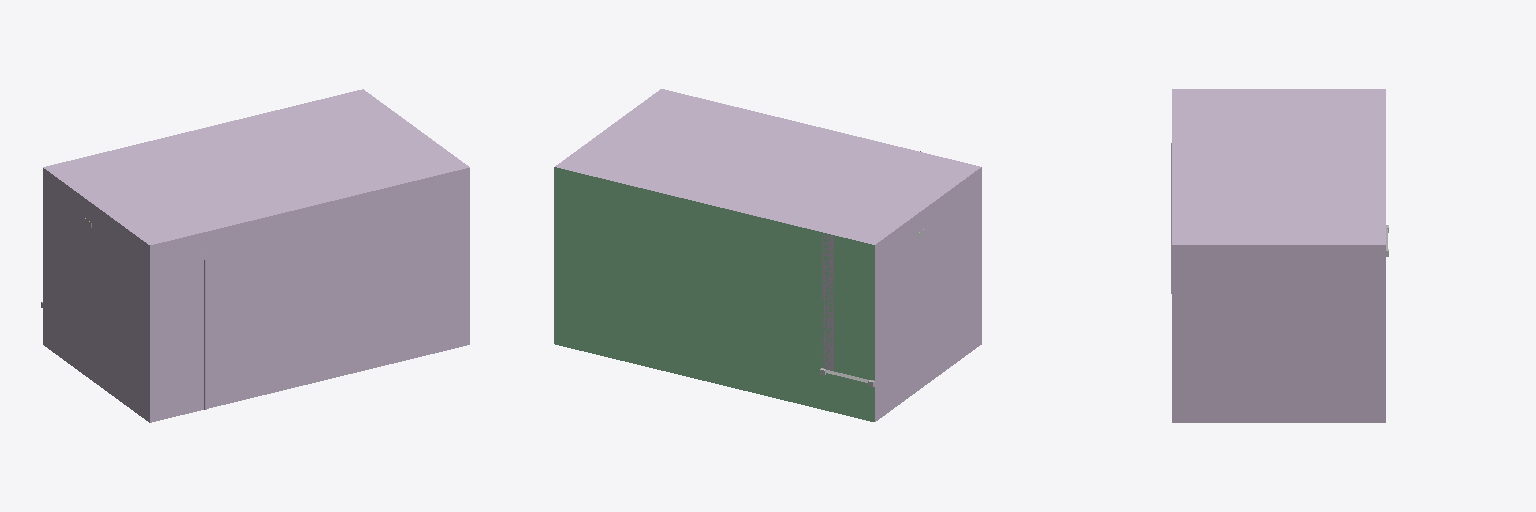
3 renders of one model, left to right at view 1: azimuth 30°, elevation 25°; view 2: azimuth 150°, elevation 25°; view 3: azimuth 270°, elevation 25°, orthographic.
Parts seen in each view (by area): view 1: CuartoAbajo.005_Material; view 2: CuartoAbajo.005_Material.001, CuartoAbajo.005_Material; view 3: CuartoAbajo.005_Material.
Boxes of the visible parts, <box> form: CuartoAbajo.005_Material: <box>43,89,469,422</box>; CuartoAbajo.005_Material.001: <box>554,167,874,421</box>; CuartoAbajo.005_Material: <box>555,89,981,421</box>; CuartoAbajo.005_Material: <box>1171,89,1385,422</box>.
Size of the model in its own units: 2.02 by 1.07 by 1.19.
Materials: 4 (3 with a texture image).